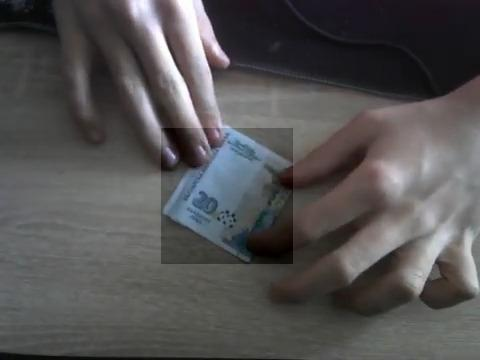20leva: (161, 128, 293, 264)
